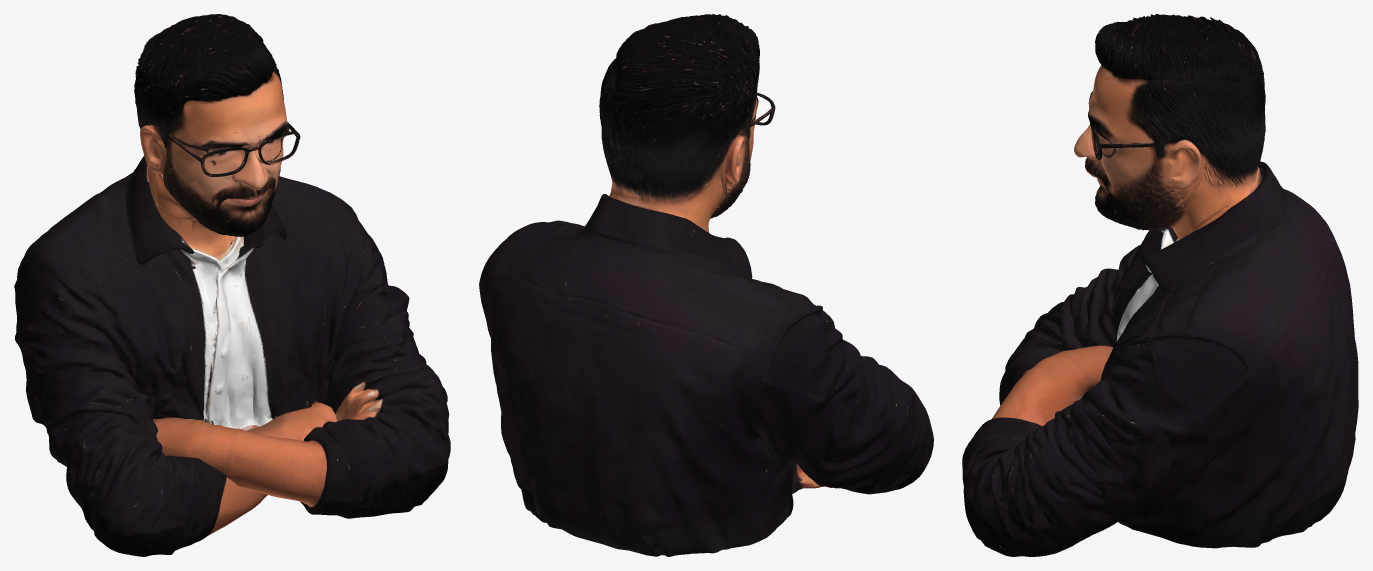
Rendered from vikrant-neb-bust.glb.
3 renders of one model, left to right at view 1: azimuth 30°, elevation 25°; view 2: azimuth 150°, elevation 25°; view 3: azimuth 270°, elevation 25°, orthographic. The views are drawn at different scales.
Parts seen in each view (by area): view 1: Mesh_0; view 2: Mesh_0; view 3: Mesh_0.
Part boxes in pixels (box(x1,y1,x2,y2)): Mesh_0: box(14, 14, 450, 556); Mesh_0: box(479, 14, 933, 556); Mesh_0: box(962, 14, 1358, 556).
Size of the model in its own units: 1.64 by 1.9 by 1.48.
1 material, 1 textured.
